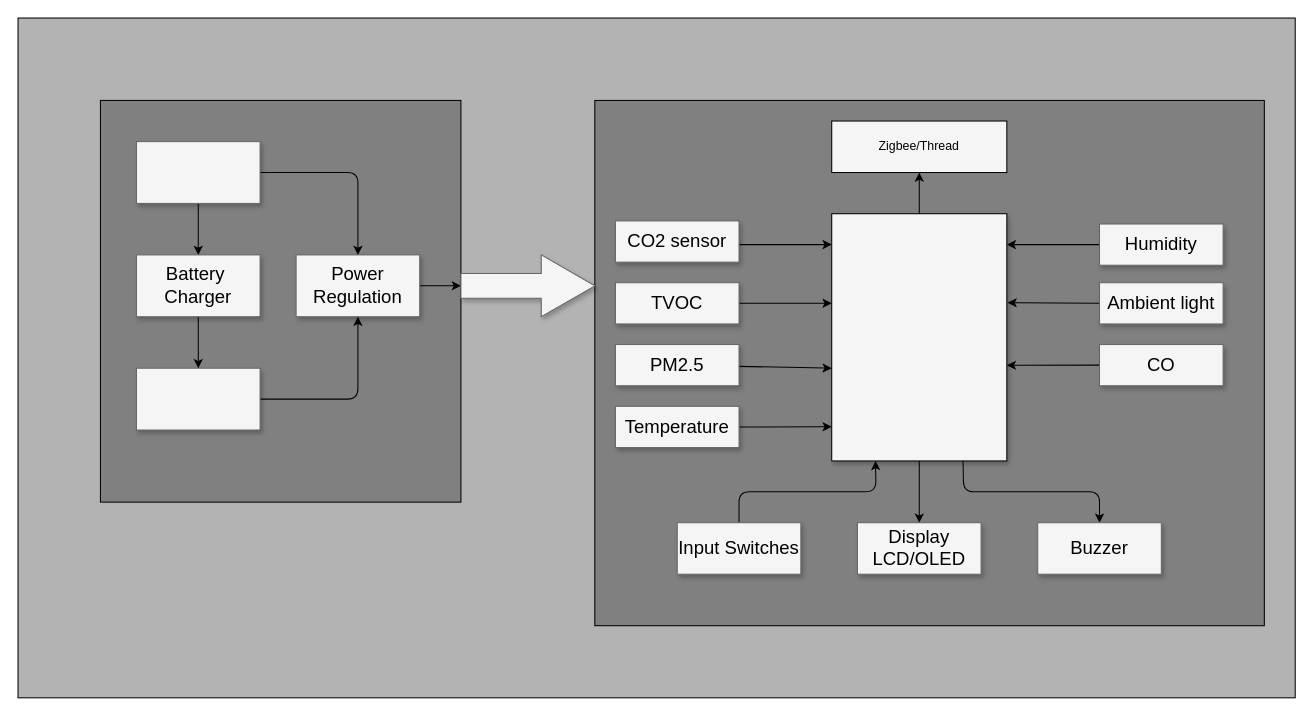
This 1313x716 diagram has some shape labels left out. Here are the shapes that lost their labels. From the top down, the centre of each, then its label:
At (x=198, y=173): "USB Supply".
At (x=920, y=338): "Data Acquisition and conditioning".
At (x=198, y=400): "Battery".
